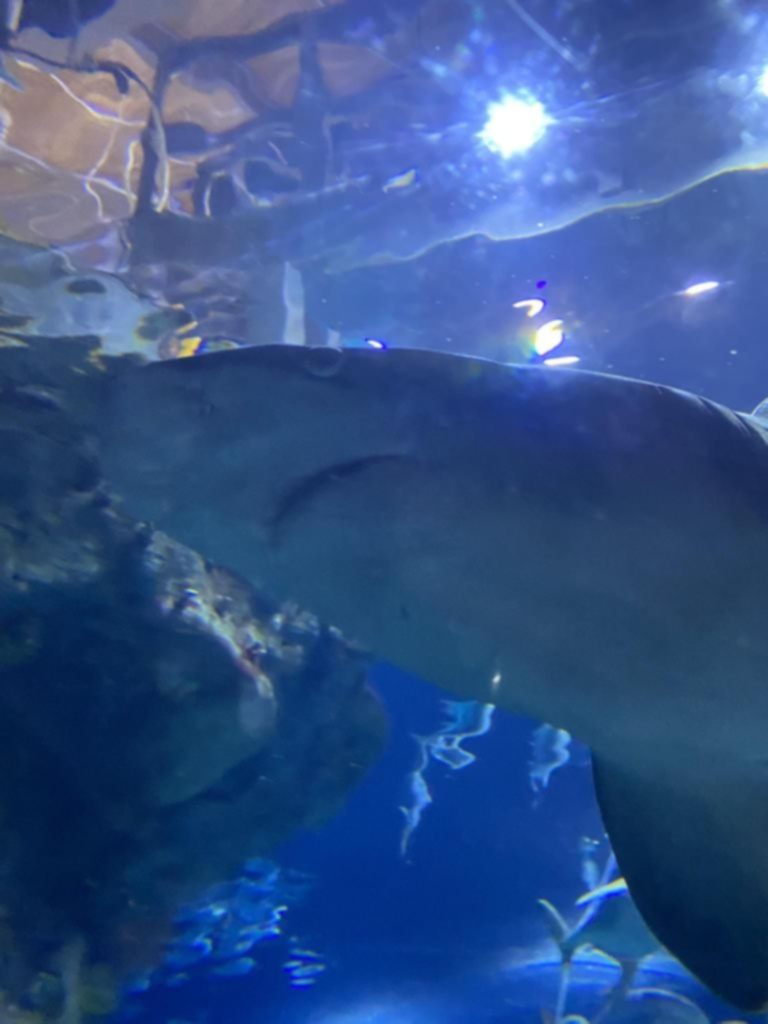fish: (533, 874, 661, 998)
shark: (93, 342, 768, 1010)
